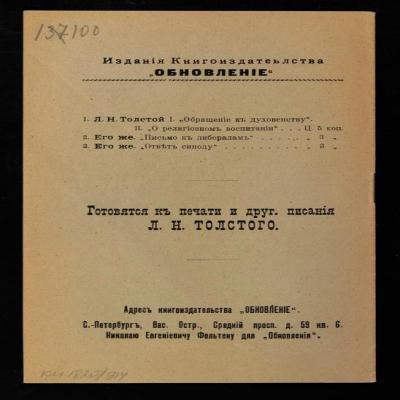rare_books: (1, 9, 378, 388)
